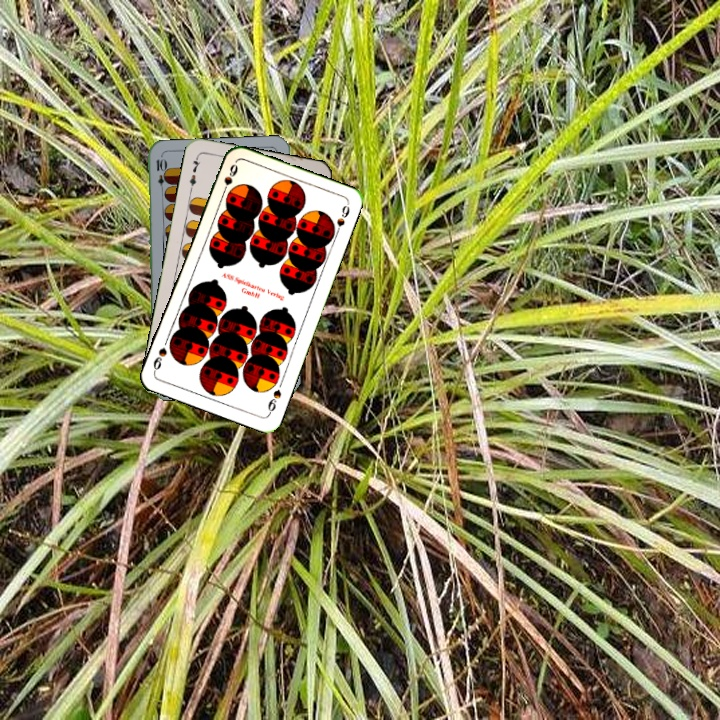E10: (152, 155, 167, 195)
E7: (185, 152, 203, 193)
S9: (218, 160, 240, 198), (264, 385, 284, 417)
